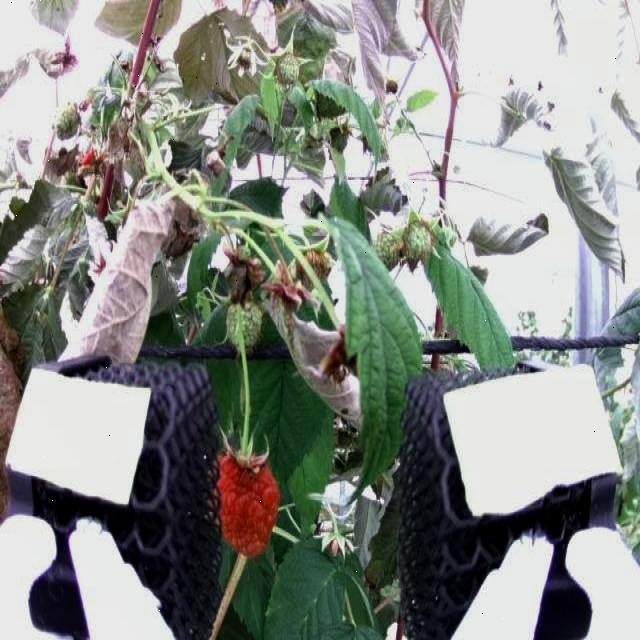Riped berries: (214, 445, 281, 559)
